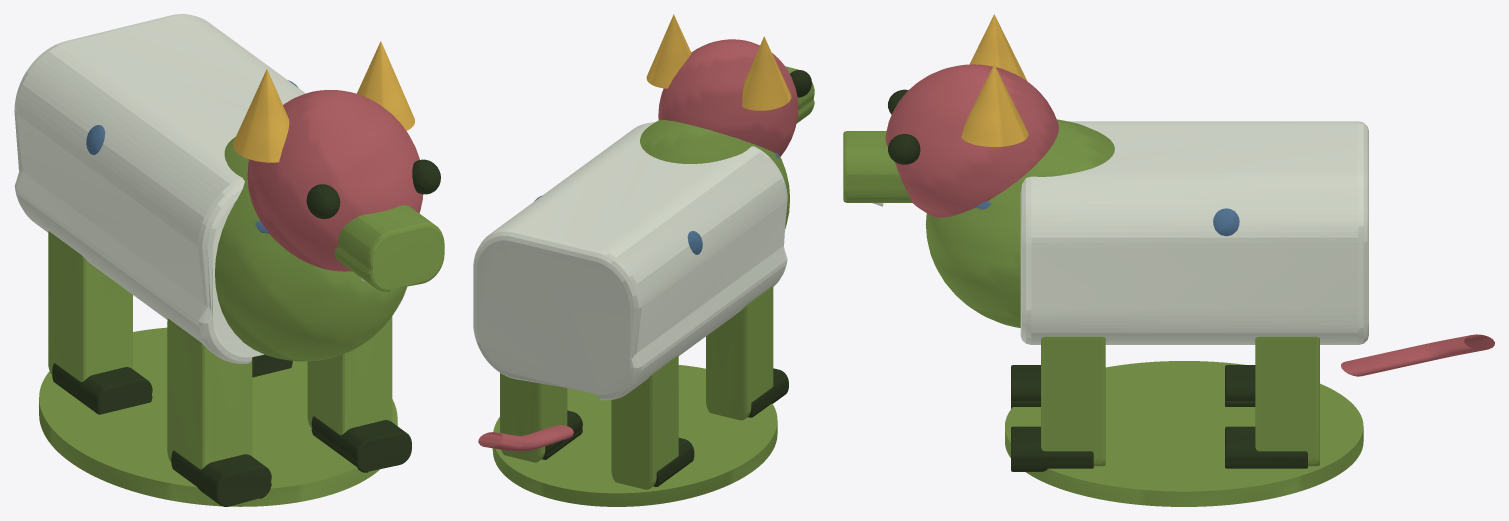
File: 0848_两栖动物图鉴_粗皮渍螈.glb
3 views of the same model, side by side, from view 1: azimuth 30°, elevation 25°; view 2: azimuth 150°, elevation 25°; view 3: azimuth 270°, elevation 25° (orthographic). The views are drawn at different scales.
Parts seen in each view (by area): view 1: card_0848; view 2: card_0848; view 3: card_0848.
Part boxes in pixels (left/top/right/bottom): card_0848: left=14, top=14, right=444, bottom=506; card_0848: left=473, top=14, right=814, bottom=506; card_0848: left=843, top=14, right=1494, bottom=506.
Size of the model in its own units: 0.6957 by 1 by 1.47.
